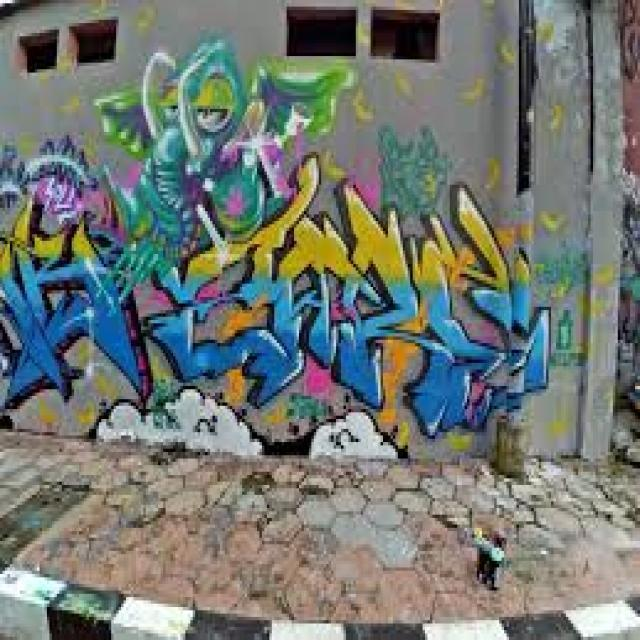-: (2, 36, 612, 438)
